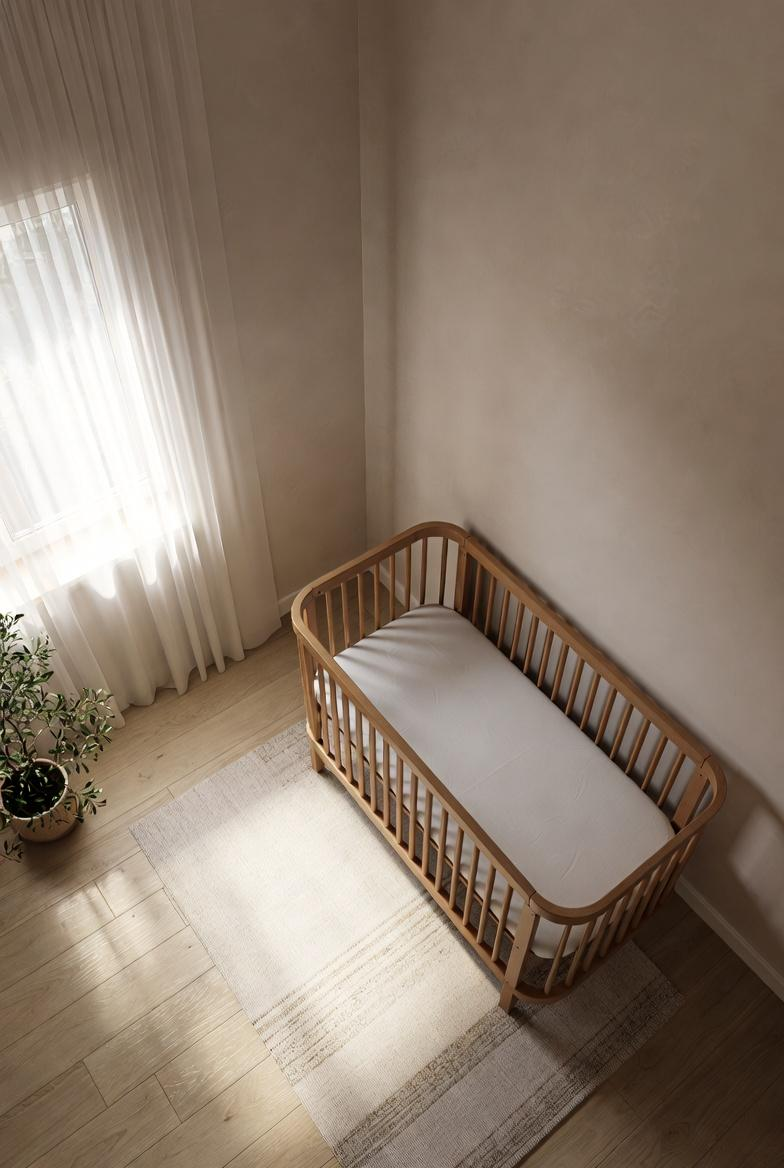crib: (292, 523, 725, 1011)
